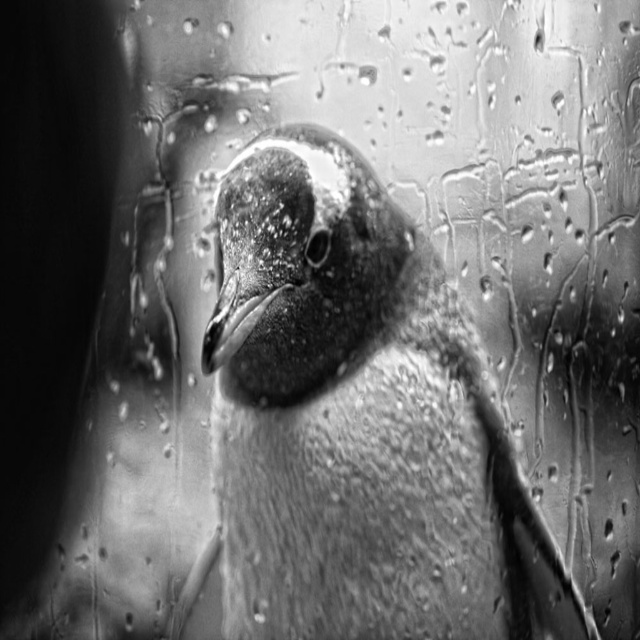Penguin: (105, 106, 601, 629)
